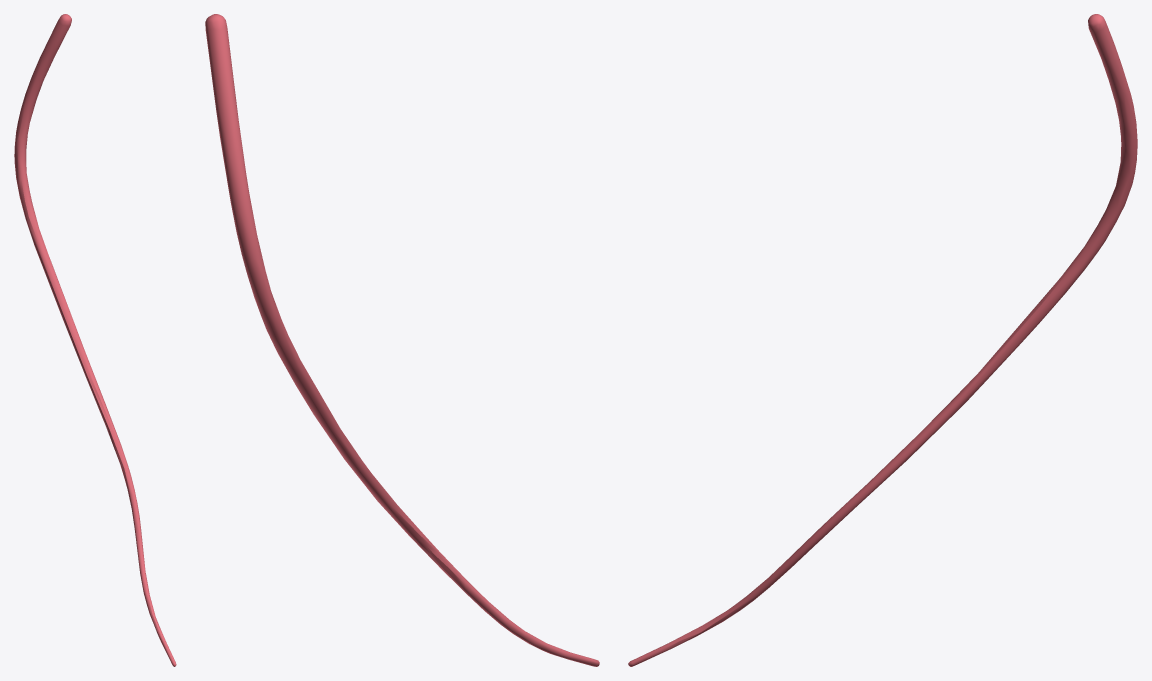
File: fma85100_fj2359.glb
The picture shows the model from 3 angles, left to right: view 1: azimuth 30°, elevation 25°; view 2: azimuth 150°, elevation 25°; view 3: azimuth 270°, elevation 25°; orthographic projection. The views are drawn at different scales.
Visible parts, largest first — view 1: FMA85100_FJ2359; view 2: FMA85100_FJ2359; view 3: FMA85100_FJ2359.
Boxes of the visible parts, <box> form: FMA85100_FJ2359: <box>14,14,176,666</box>; FMA85100_FJ2359: <box>205,14,599,666</box>; FMA85100_FJ2359: <box>628,14,1137,666</box>.
Bounding box in the file's own units: 0.0087 × 0.0608 × 0.0405.
